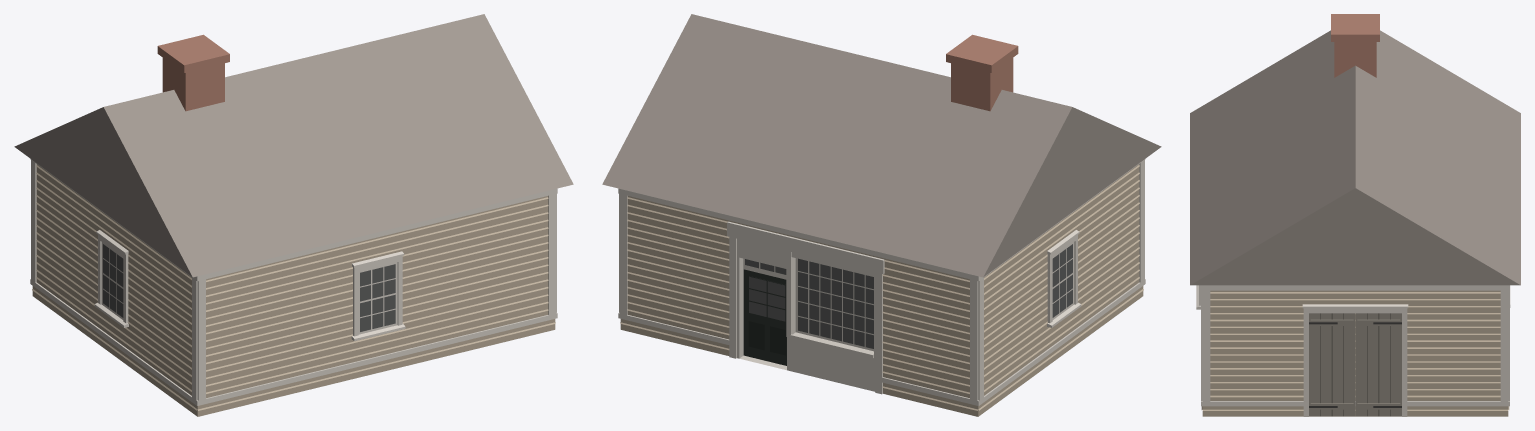
The model's file is carpenter_south_water_store__frame_1833.glb.
The picture shows the model from 3 angles, left to right: view 1: azimuth 30°, elevation 25°; view 2: azimuth 150°, elevation 25°; view 3: azimuth 270°, elevation 25°; orthographic projection. The views are drawn at different scales.
Parts seen in each view (by area): view 1: carpenter_south_water_store__frame_1833; view 2: carpenter_south_water_store__frame_1833; view 3: carpenter_south_water_store__frame_1833.
Part boxes in pixels (x1,y1,x2,y2): carpenter_south_water_store__frame_1833: (14,14,573,416); carpenter_south_water_store__frame_1833: (602,14,1161,416); carpenter_south_water_store__frame_1833: (1190,14,1520,416).
Bounding box in the file's own units: 8.12 × 5.85 × 6.6.
